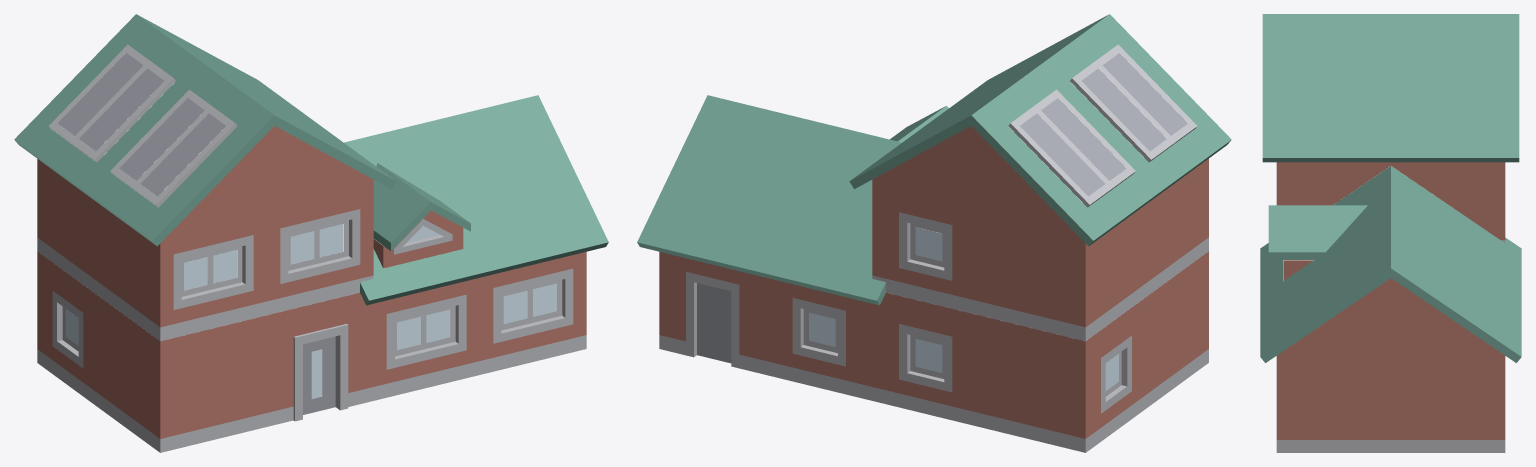
The model's file is house-3.glb.
3 views of the same model, side by side, from view 1: azimuth 30°, elevation 25°; view 2: azimuth 150°, elevation 25°; view 3: azimuth 270°, elevation 25° (orthographic). The views are drawn at different scales.
Visible parts, largest first — view 1: house_type03; view 2: house_type03; view 3: house_type03.
Part boxes in pixels (left/top/right/bottom): house_type03: left=14, top=14, right=608, bottom=452; house_type03: left=637, top=14, right=1231, bottom=452; house_type03: left=1260, top=14, right=1521, bottom=452.
Bounding box in the file's own units: 1.71 × 1.14 × 0.9163.
1 material, 1 textured.
